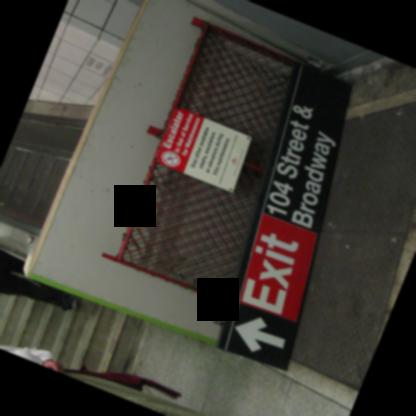handbag: (65, 364, 182, 398)
